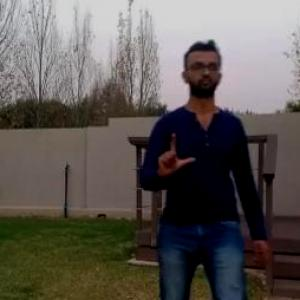land_hand: (154, 124, 206, 183)
